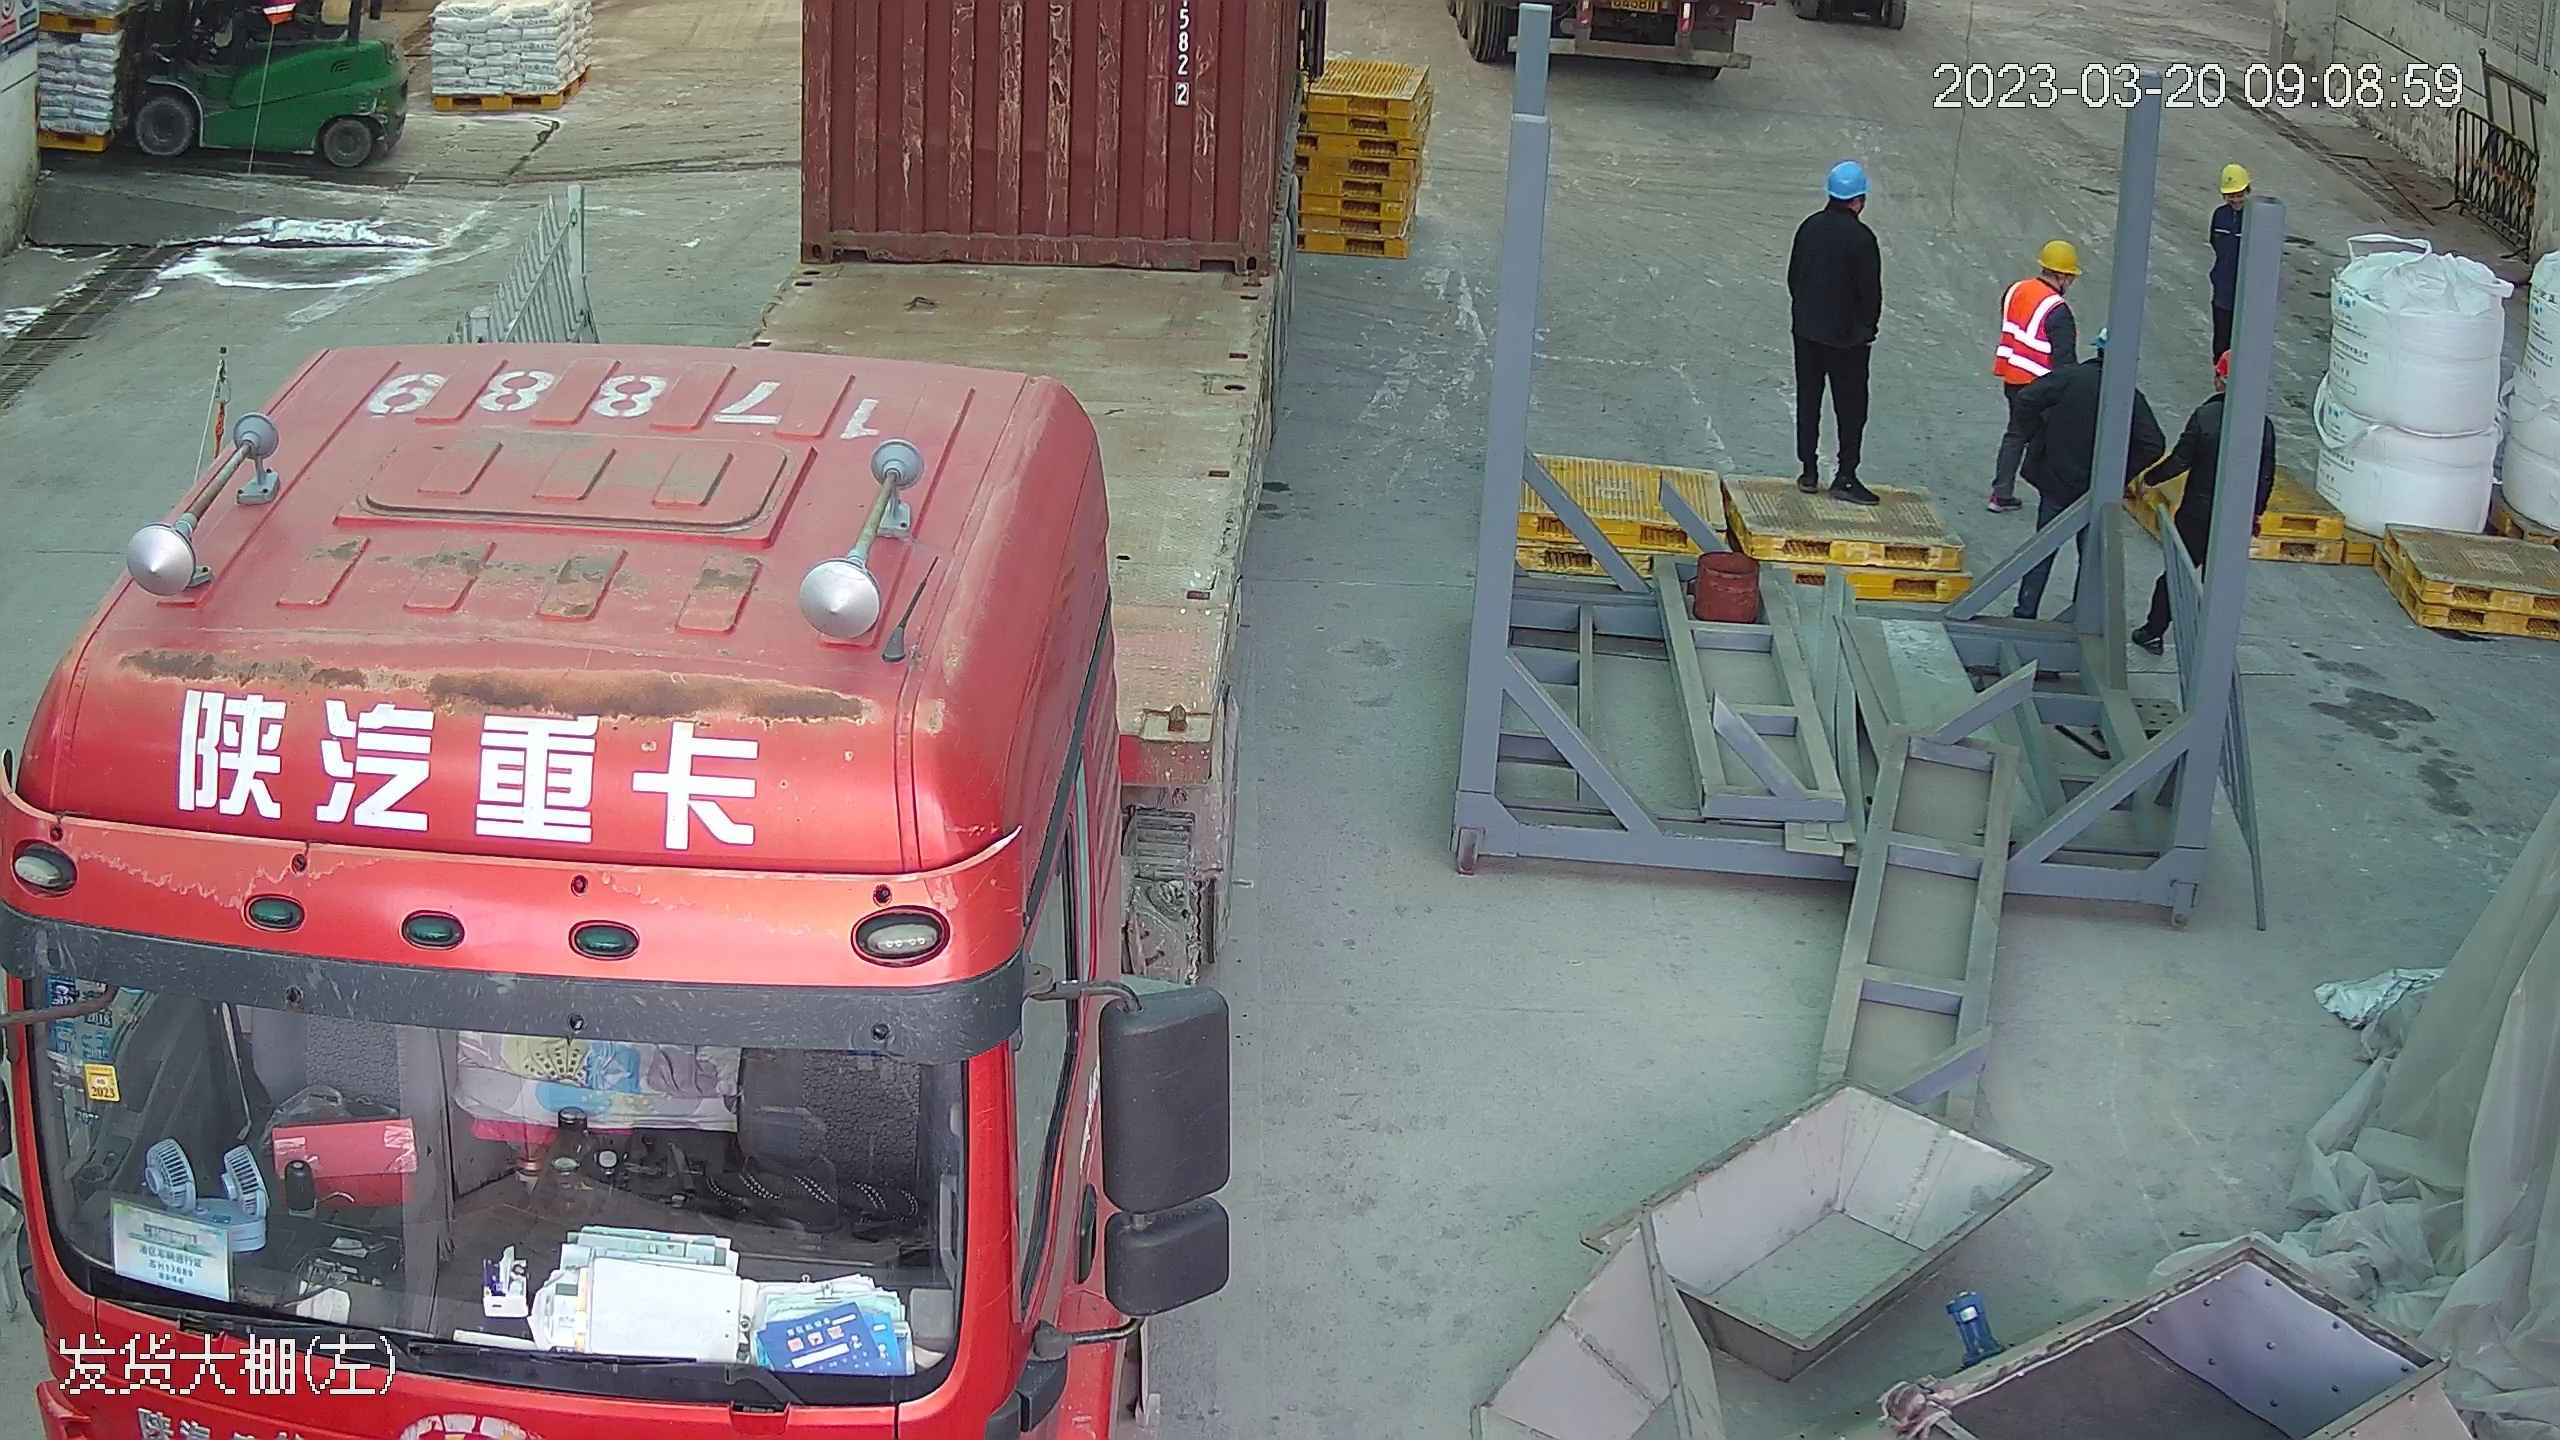head: (1790, 157, 1882, 253), (2006, 235, 2085, 326), (2208, 159, 2255, 231)
helmet: (1824, 158, 1871, 196), (2037, 235, 2082, 274), (2217, 159, 2251, 188)
people: (1779, 154, 1889, 498), (1986, 232, 2088, 515), (2202, 162, 2253, 366)
truck: (9, 8, 1283, 1440)
